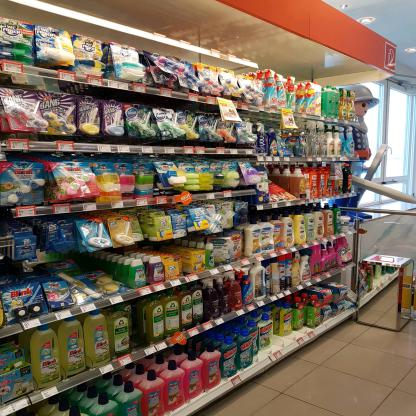Void: (128, 308, 149, 347), (80, 256, 101, 271), (275, 335, 289, 345)
